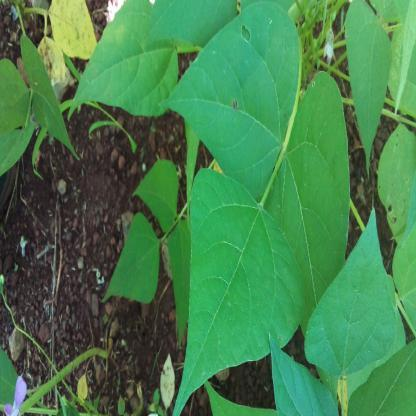Beans_Angular_LeafSpot: (166, 2, 302, 190), (374, 121, 416, 257)
